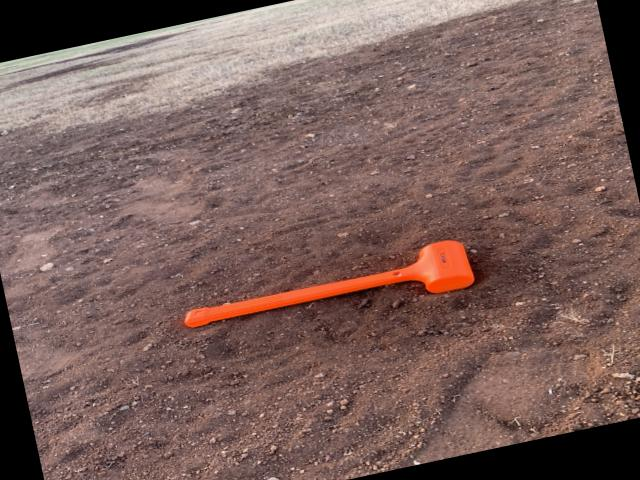hammer: (178, 236, 478, 346)
